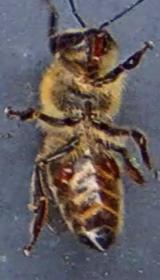varroa_mite: (49, 152, 75, 189)
